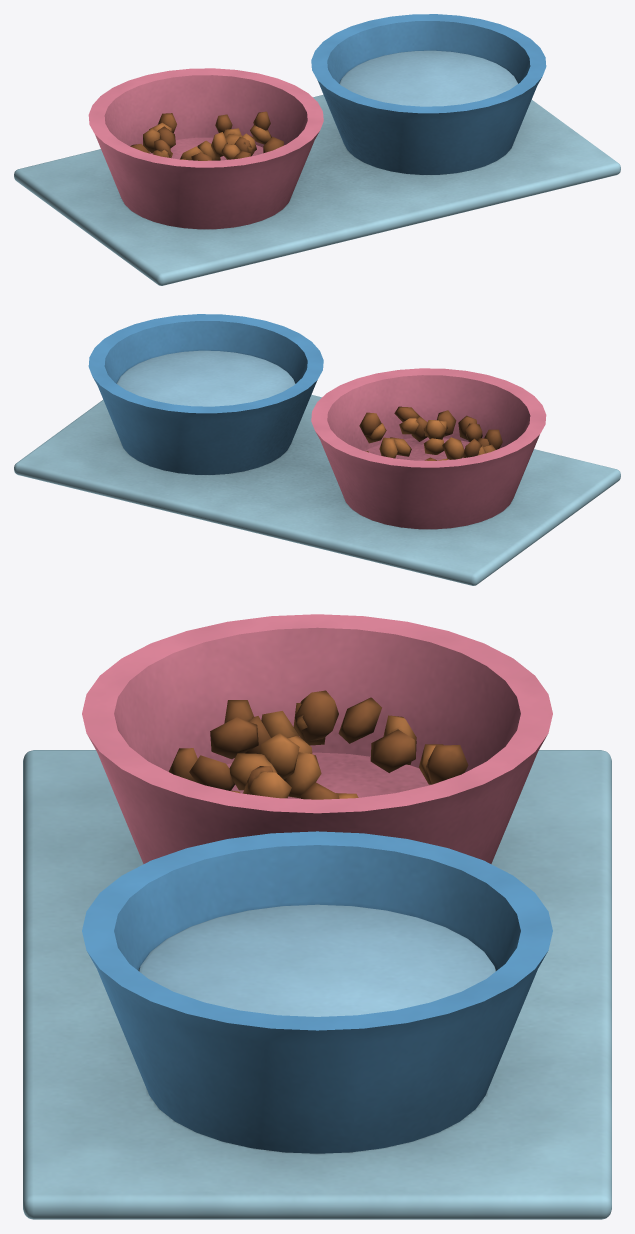
File: CatBowls.fbx
The picture shows the model from 3 angles, top to bottom: view 1: azimuth 30°, elevation 25°; view 2: azimuth 150°, elevation 25°; view 3: azimuth 270°, elevation 25°; orthographic projection. The views are drawn at different scales.
Parts seen in each view (by area): view 1: CatBowls; view 2: CatBowls; view 3: CatBowls.
Part boxes in pixels (x1,y1,x2,y2): CatBowls: [14, 14, 620, 285]; CatBowls: [14, 314, 620, 585]; CatBowls: [23, 614, 611, 1219].
Size of the model in its own units: 2 by 0.36 by 1.1.
Materials: 1 (1 with a texture image).
